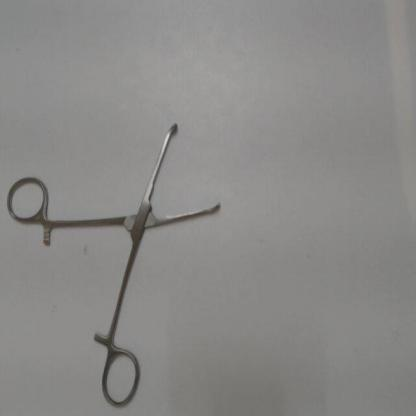Allis Tissue Forceps: (3, 113, 232, 414)
